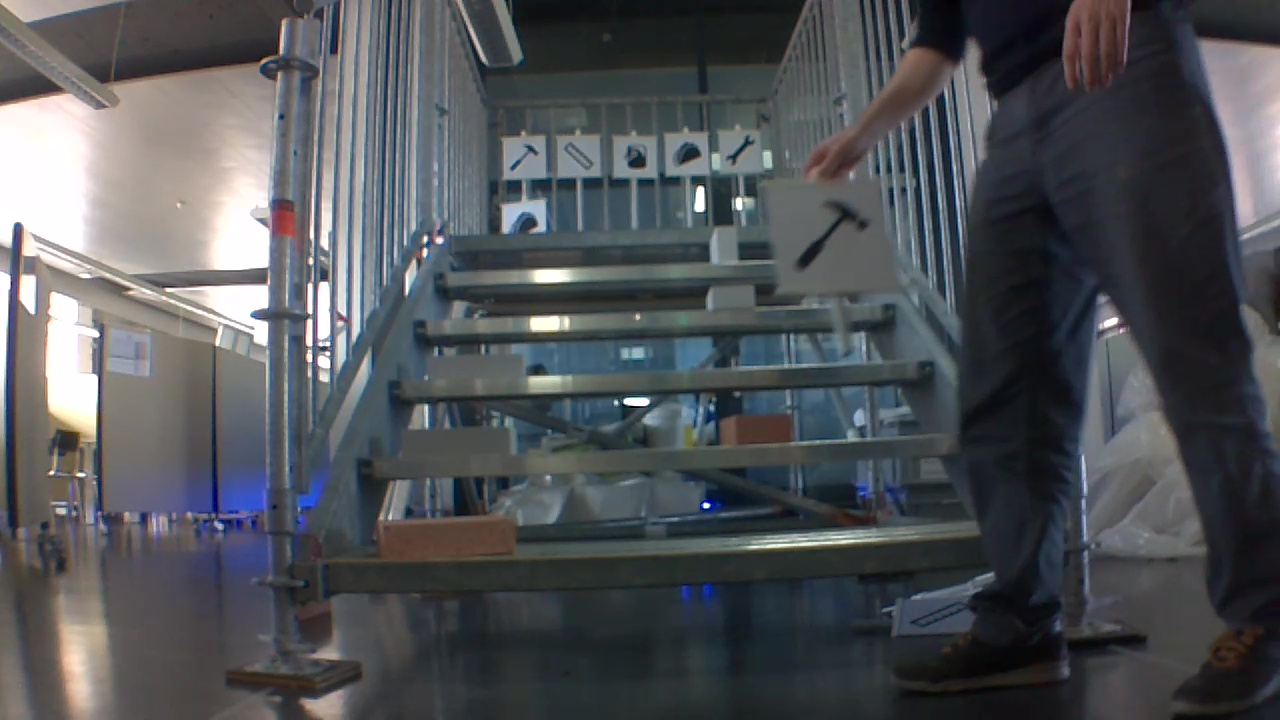brick: (377, 517, 511, 559), (405, 426, 515, 458), (427, 354, 527, 381), (721, 415, 790, 444), (705, 285, 753, 309), (711, 228, 736, 263)
bucket: (619, 142, 649, 170)
edge: (322, 531, 1072, 583), (359, 436, 971, 476), (391, 361, 933, 396), (415, 304, 895, 330)
hammer: (788, 196, 873, 282), (502, 140, 541, 175)
ruler: (559, 141, 598, 173)
taco: (668, 138, 703, 168), (508, 208, 540, 234)
wrench: (721, 127, 757, 167)
